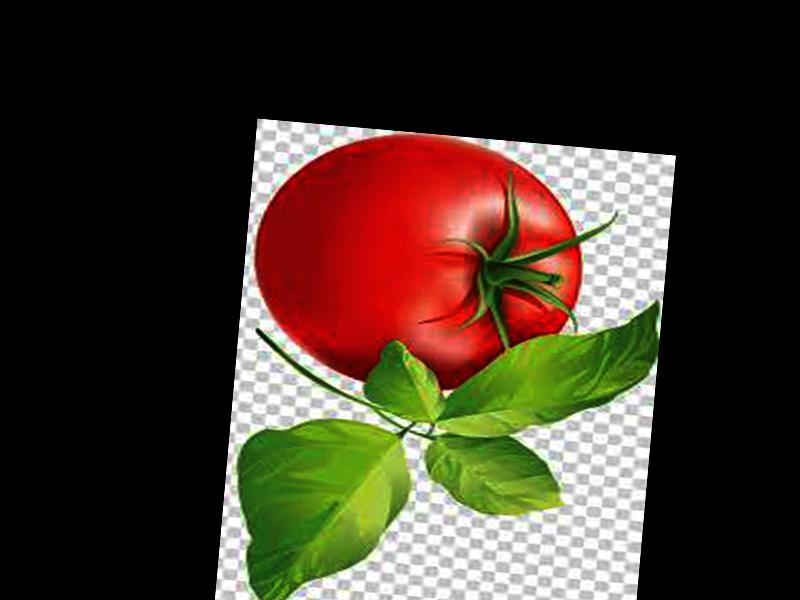Tomato: (244, 121, 592, 400)
